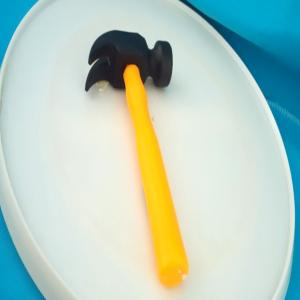martelo: (84, 29, 189, 289)
